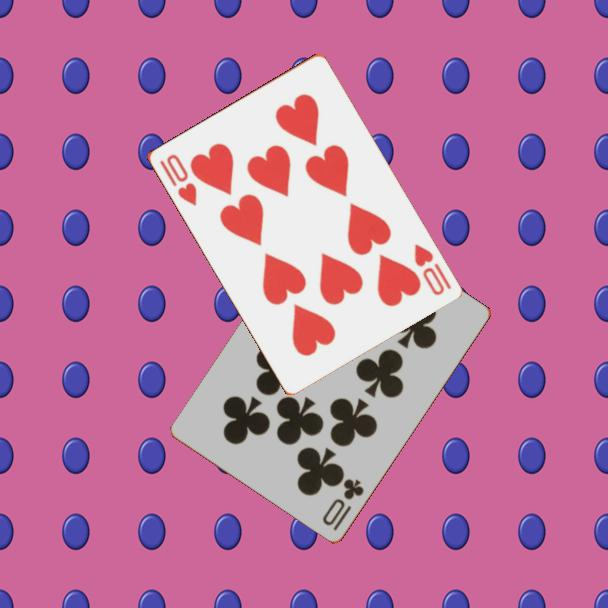c10: (319, 476, 367, 534)
h10: (410, 240, 454, 298), (156, 150, 199, 209)
